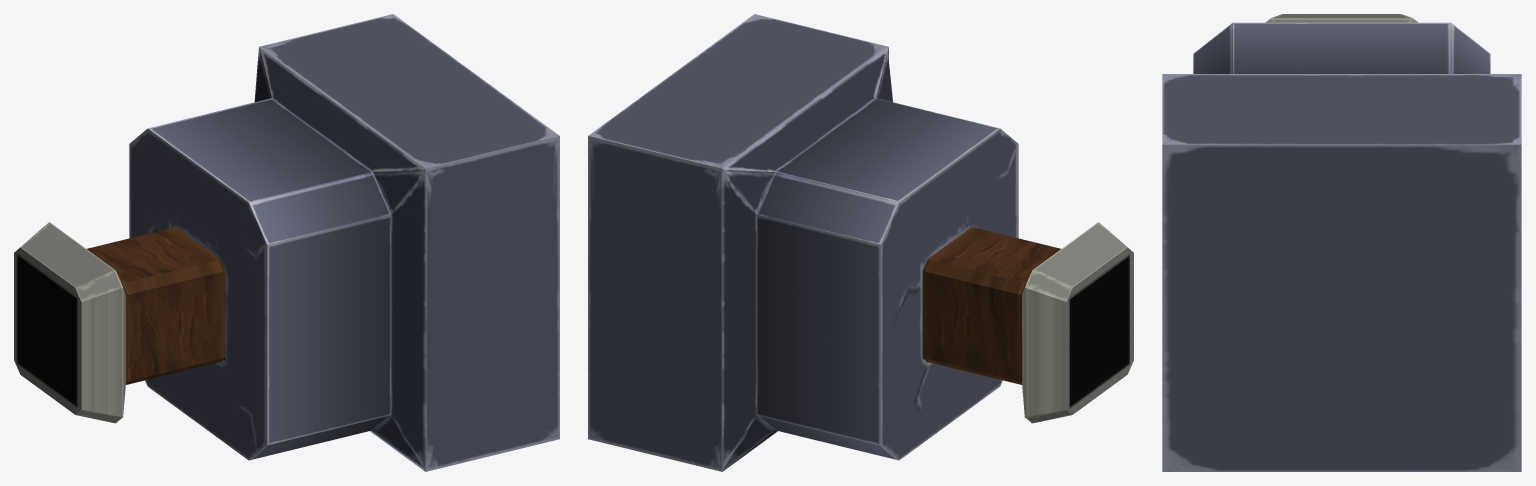
File: Wall Shooter.FBX
The picture shows the model from 3 angles, left to right: view 1: azimuth 30°, elevation 25°; view 2: azimuth 150°, elevation 25°; view 3: azimuth 270°, elevation 25°; orthographic projection. The views are drawn at different scales.
Parts seen in each view (by area): view 1: wall_shooter; view 2: wall_shooter; view 3: wall_shooter.
Boxes of the visible parts, bbox=[...] form: wall_shooter: bbox=[14, 14, 559, 471]; wall_shooter: bbox=[588, 14, 1133, 471]; wall_shooter: bbox=[1162, 14, 1521, 471].
Size of the model in its own units: 14.99 by 10.13 by 10.08.
